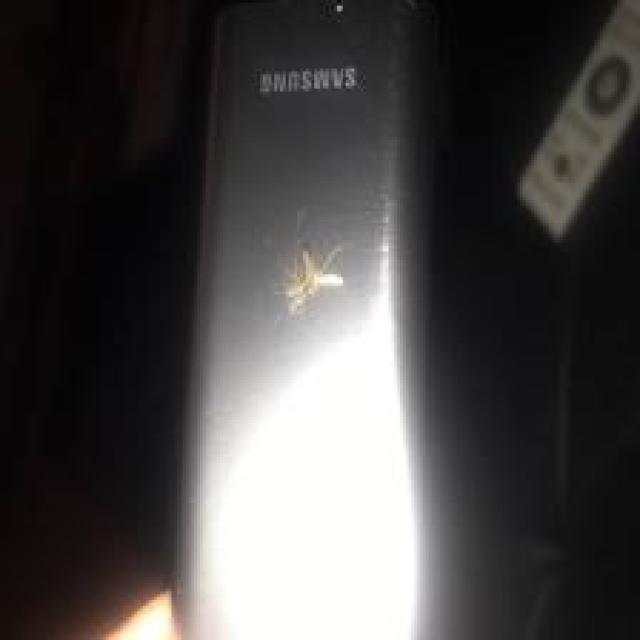Culex: (273, 243, 344, 320)
